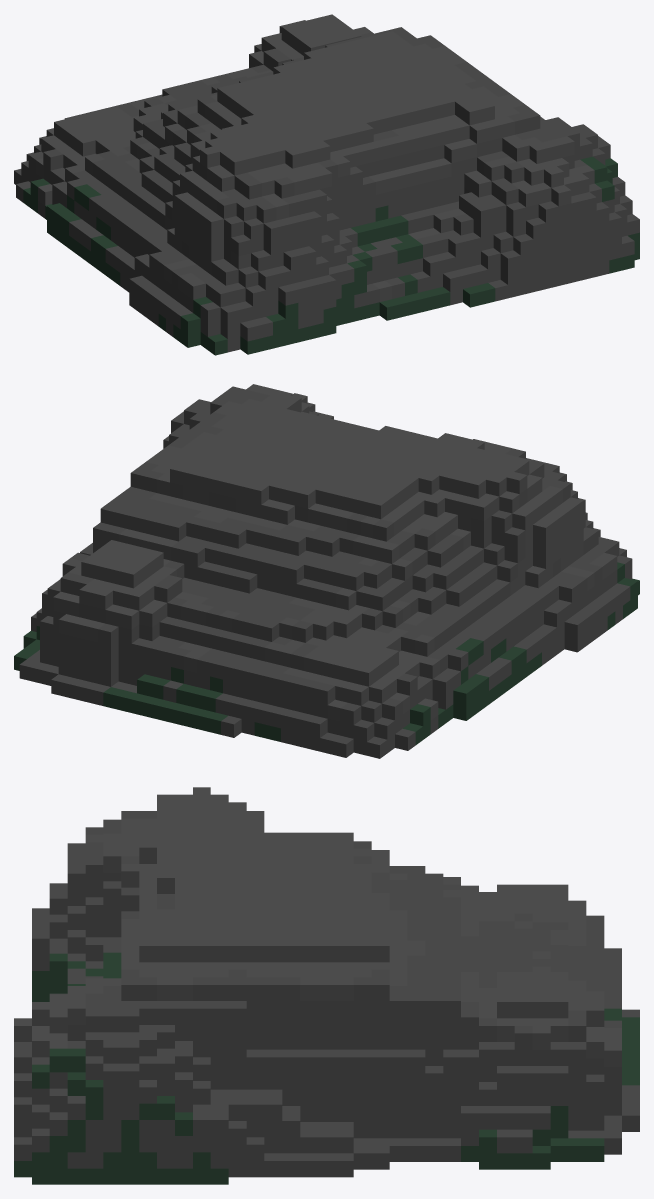
The model's file is stone4.obj.
The picture shows the model from 3 angles, top to bottom: view 1: azimuth 30°, elevation 25°; view 2: azimuth 150°, elevation 25°; view 3: azimuth 270°, elevation 25°; orthographic projection. The views are drawn at different scales.
Bounding box in the file's own units: 3.4 × 1.1 × 3.5.
1 material, 1 textured.
